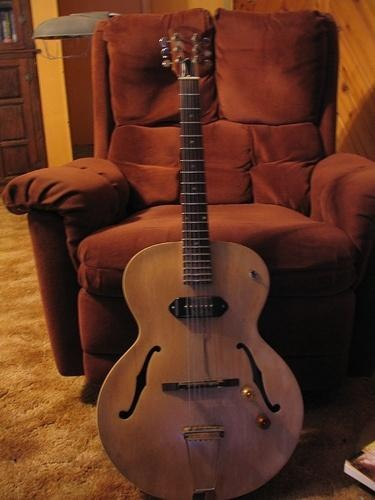chair: (3, 6, 375, 394)
